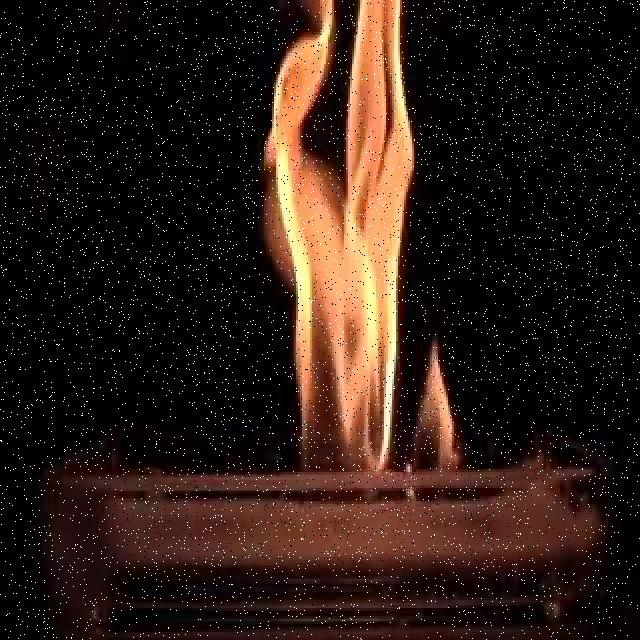fire: (262, 11, 469, 483)
